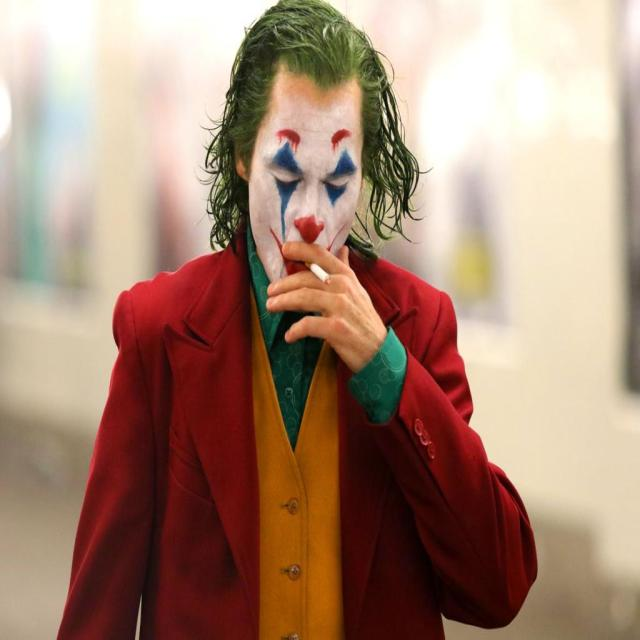smoking: (234, 33, 386, 370)
